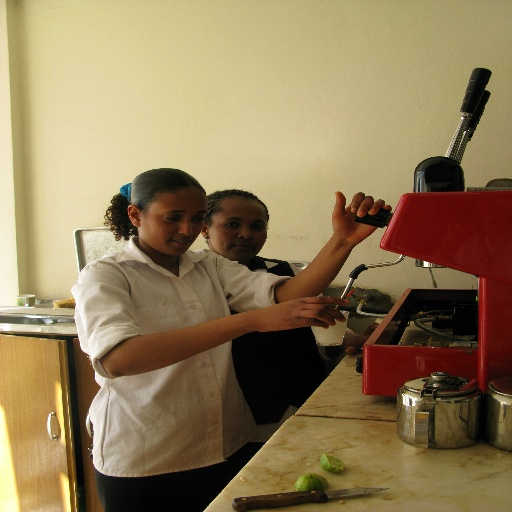hand: (249, 295, 352, 332), (328, 191, 391, 235)
